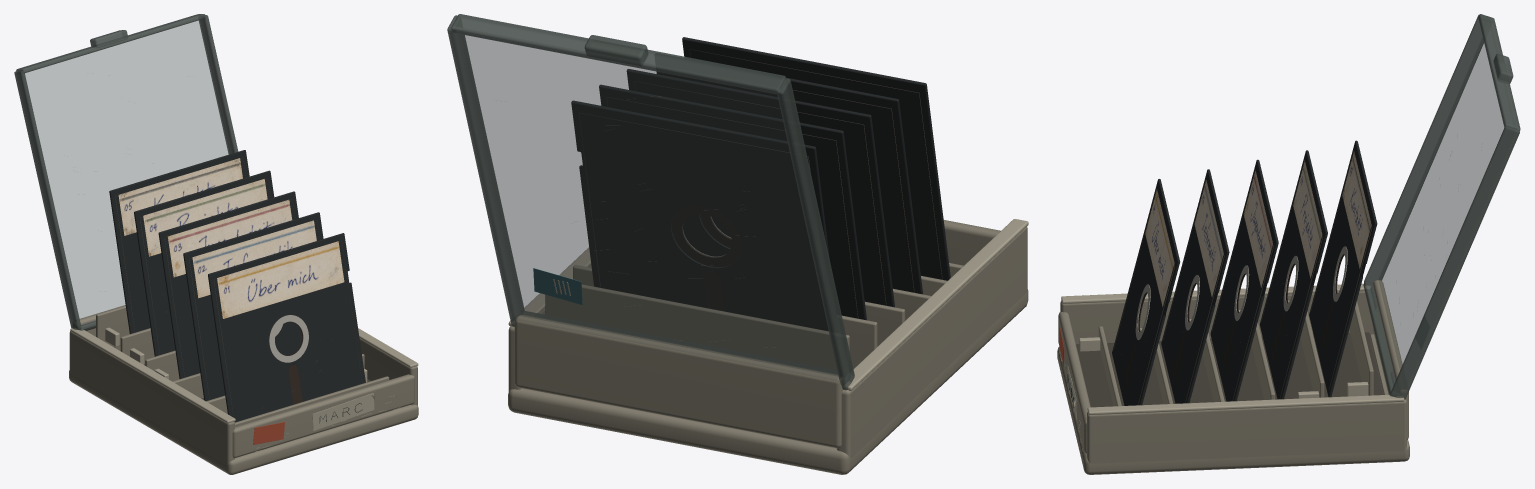
File: diskette_box.glb
3 views of the same model, side by side, from view 1: azimuth 30°, elevation 25°; view 2: azimuth 150°, elevation 25°; view 3: azimuth 270°, elevation 25° (orthographic). The views are drawn at different scales.
Parts seen in each view (by area): view 1: LidWeb_2, BoxWeb_0, DiskWeb0_1, LidWeb_1, DiskWeb0_3, DiskWeb1_1, BoxWeb_1, DiskWeb2_1, DiskWeb3_1, DiskWeb4_1, DiskWeb4_3, DiskWeb1_3 (+5 smaller); view 2: LidWeb_2, BoxWeb_0, DiskWeb4_1, LidWeb_1, DiskWeb3_1, DiskWeb0_1, DiskWeb2_1, DiskWeb1_1, BoxWeb_1, DiskWeb4_4, LidWeb_3; view 3: BoxWeb_0, LidWeb_2, LidWeb_1, BoxWeb_5, DiskWeb4_1, DiskWeb3_1, DiskWeb2_1, DiskWeb1_1, DiskWeb0_1, BoxWeb_1, DiskWeb4_3, DiskWeb0_3 (+3 smaller).
Part boxes in pixels (left/top/right/bottom): LidWeb_2: left=16, top=20, right=229, bottom=318; BoxWeb_0: left=69, top=305, right=418, bottom=474; DiskWeb0_1: left=208, top=233, right=365, bottom=422; LidWeb_1: left=14, top=14, right=238, bottom=330; DiskWeb0_3: left=217, top=241, right=344, bottom=318; DiskWeb1_1: left=183, top=212, right=323, bottom=401; BoxWeb_1: left=70, top=327, right=418, bottom=455; DiskWeb2_1: left=158, top=191, right=298, bottom=378; DiskWeb3_1: left=134, top=170, right=274, bottom=356; DiskWeb4_1: left=109, top=150, right=249, bottom=333; DiskWeb4_3: left=118, top=158, right=242, bottom=235; DiskWeb1_3: left=192, top=220, right=316, bottom=298; LidWeb_2: left=450, top=27, right=841, bottom=385; BoxWeb_0: left=508, top=220, right=1028, bottom=474; DiskWeb4_1: left=571, top=100, right=829, bottom=330; LidWeb_1: left=447, top=14, right=854, bottom=390; DiskWeb3_1: left=599, top=84, right=866, bottom=320; DiskWeb0_1: left=682, top=37, right=950, bottom=280; DiskWeb2_1: left=626, top=69, right=894, bottom=307; DiskWeb1_1: left=656, top=71, right=922, bottom=294; BoxWeb_1: left=508, top=219, right=1028, bottom=390; DiskWeb4_4: left=671, top=205, right=741, bottom=311; LidWeb_3: left=533, top=268, right=582, bottom=304; BoxWeb_0: left=1057, top=280, right=1409, bottom=474; LidWeb_2: left=1378, top=37, right=1519, bottom=369; LidWeb_1: left=1363, top=14, right=1520, bottom=399; BoxWeb_5: left=1076, top=332, right=1384, bottom=407; DiskWeb4_1: left=1309, top=140, right=1377, bottom=397; DiskWeb3_1: left=1259, top=150, right=1327, bottom=399; DiskWeb2_1: left=1210, top=159, right=1278, bottom=401; DiskWeb1_1: left=1161, top=169, right=1229, bottom=403; DiskWeb0_1: left=1112, top=179, right=1180, bottom=405; BoxWeb_1: left=1058, top=283, right=1404, bottom=451; DiskWeb4_3: left=1342, top=151, right=1371, bottom=268; DiskWeb0_3: left=1145, top=189, right=1174, bottom=306.
Bounding box in the file's own units: 0.9624 × 1.15 × 1.41.
14 materials, 1 textured.
